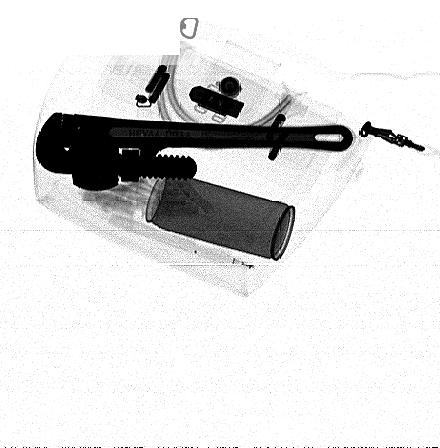Wrench: (33, 112, 355, 194)
